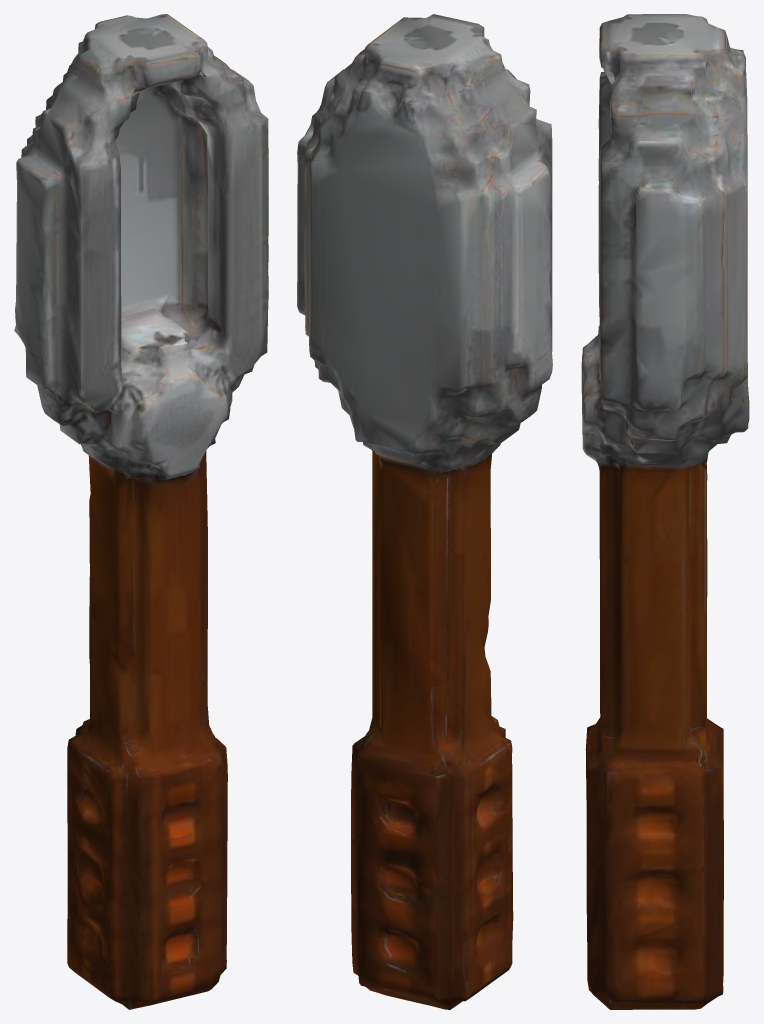
File: shovel.glb
3 renders of one model, left to right at view 1: azimuth 30°, elevation 25°; view 2: azimuth 150°, elevation 25°; view 3: azimuth 270°, elevation 25°, orthographic.
Parts seen in each view (by area): view 1: shovel; view 2: shovel; view 3: shovel.
Part boxes in pixels (x1=…): shovel: x1=14, y1=14, x2=268, y2=1009; shovel: x1=297, y1=14, x2=552, y2=1009; shovel: x1=581, y1=14, x2=749, y2=1009.
Bounding box in the file's own units: 0.1208 × 0.4838 × 0.0769.
Materials: 1 (1 with a texture image).
